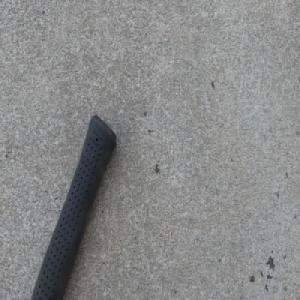Hammer: (24, 110, 118, 300)
